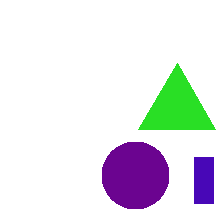circle: (102, 142, 168, 208)
rectangle: (194, 157, 213, 203)
triangle: (138, 63, 215, 129)
